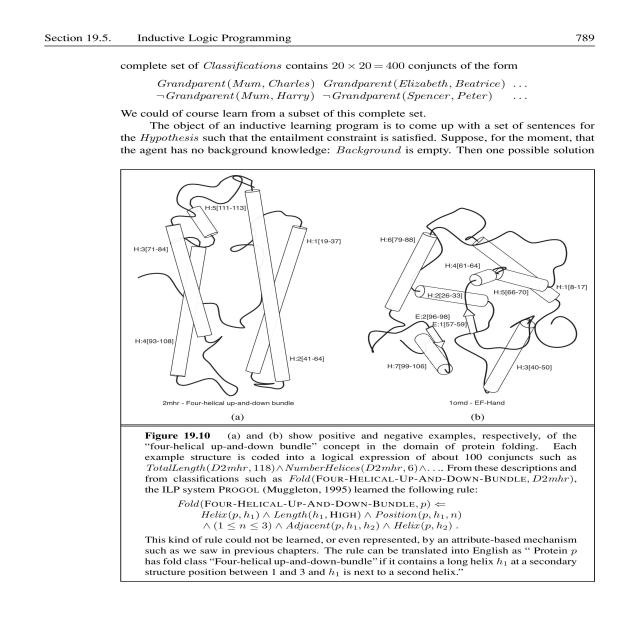diagram: (101, 166, 640, 580)
